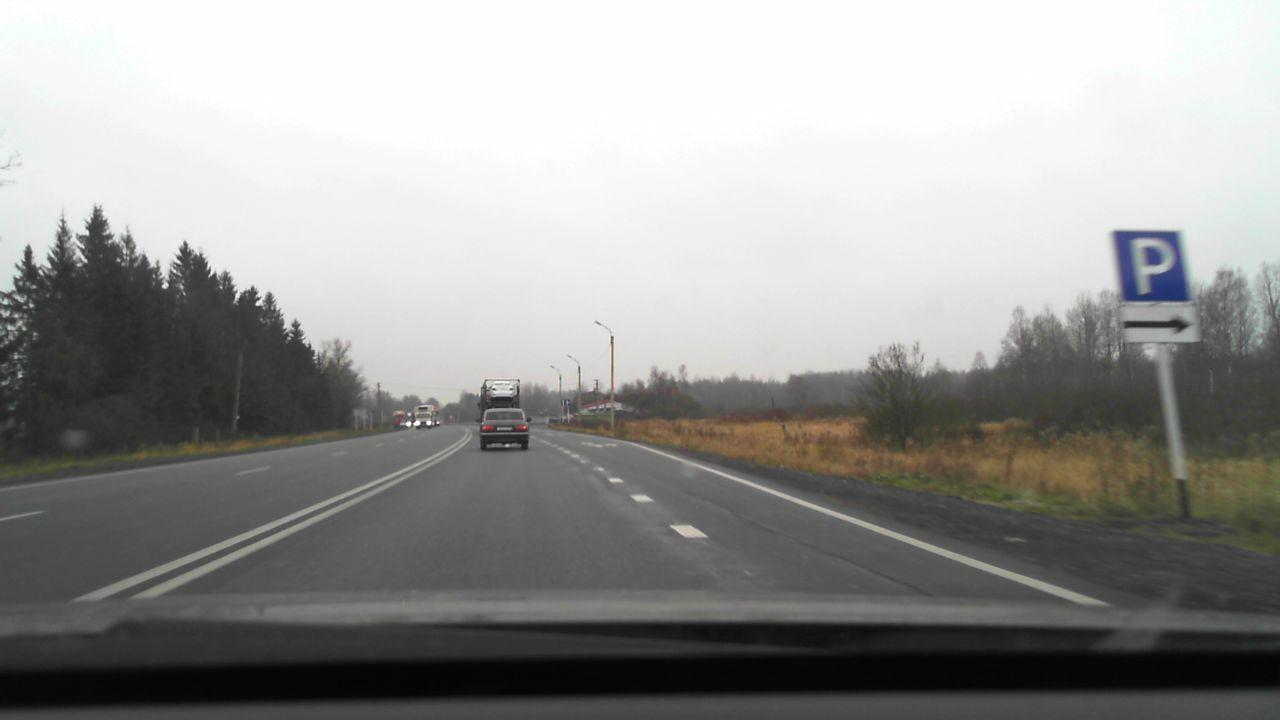6_4: (1106, 224, 1193, 300)
8_3_1: (1121, 304, 1200, 344)
